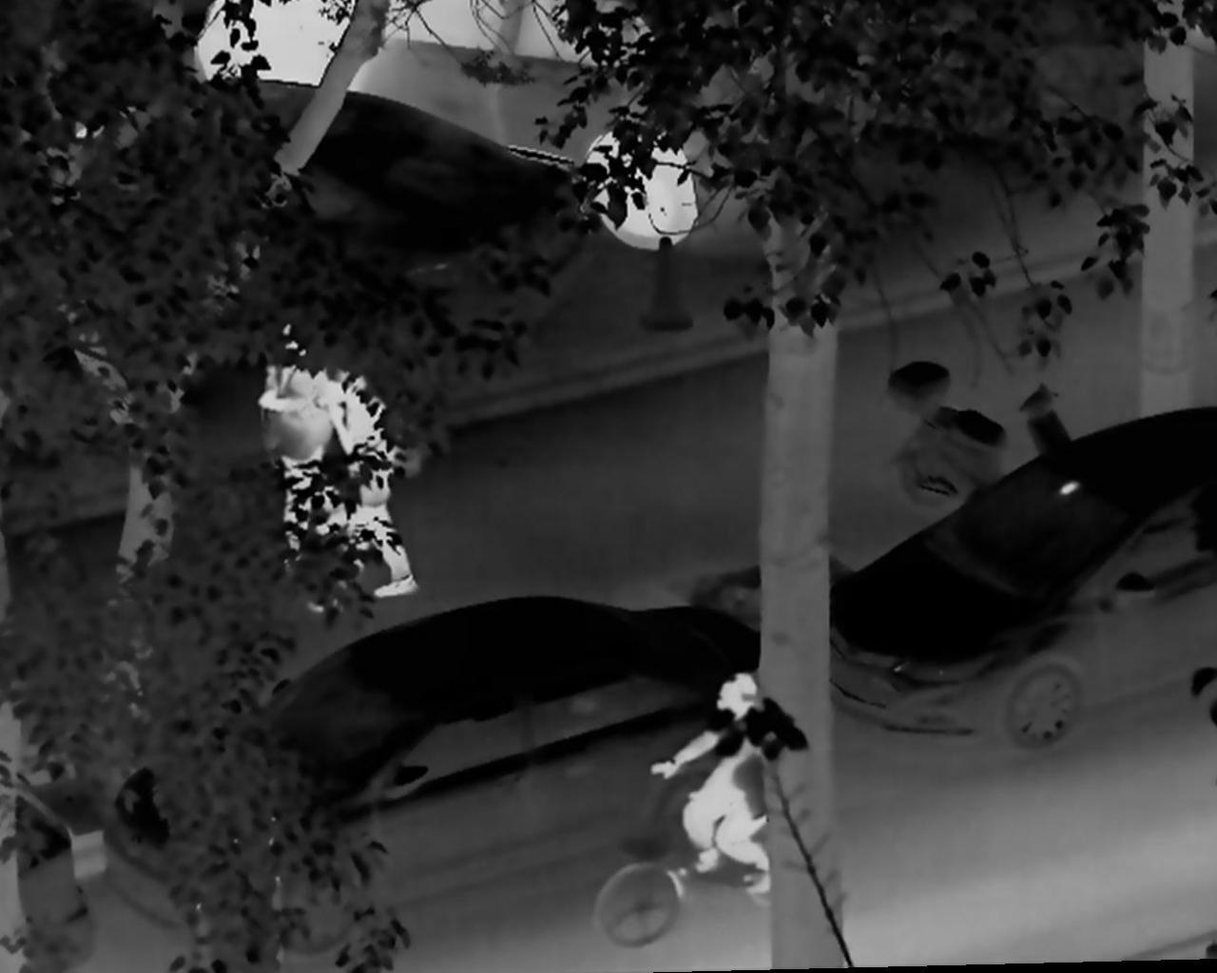person: (304, 365, 428, 619), (650, 672, 773, 902), (261, 309, 348, 573)
